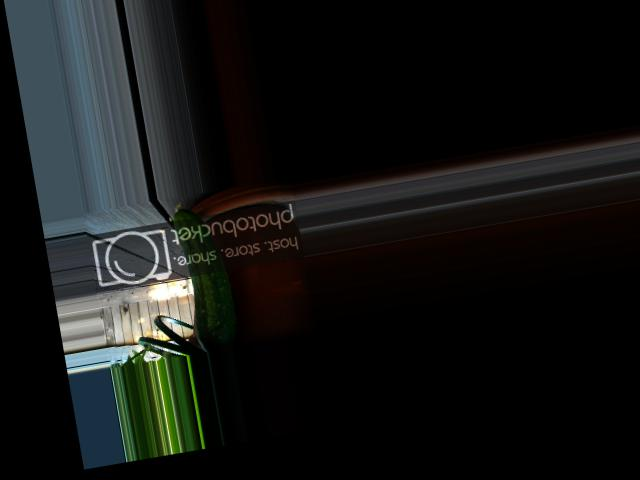cucumber: (169, 196, 240, 353)
